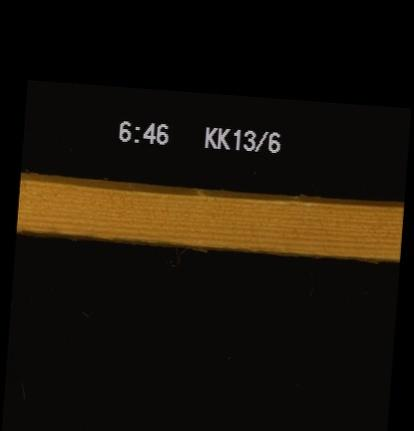wave: (15, 227, 399, 257)
